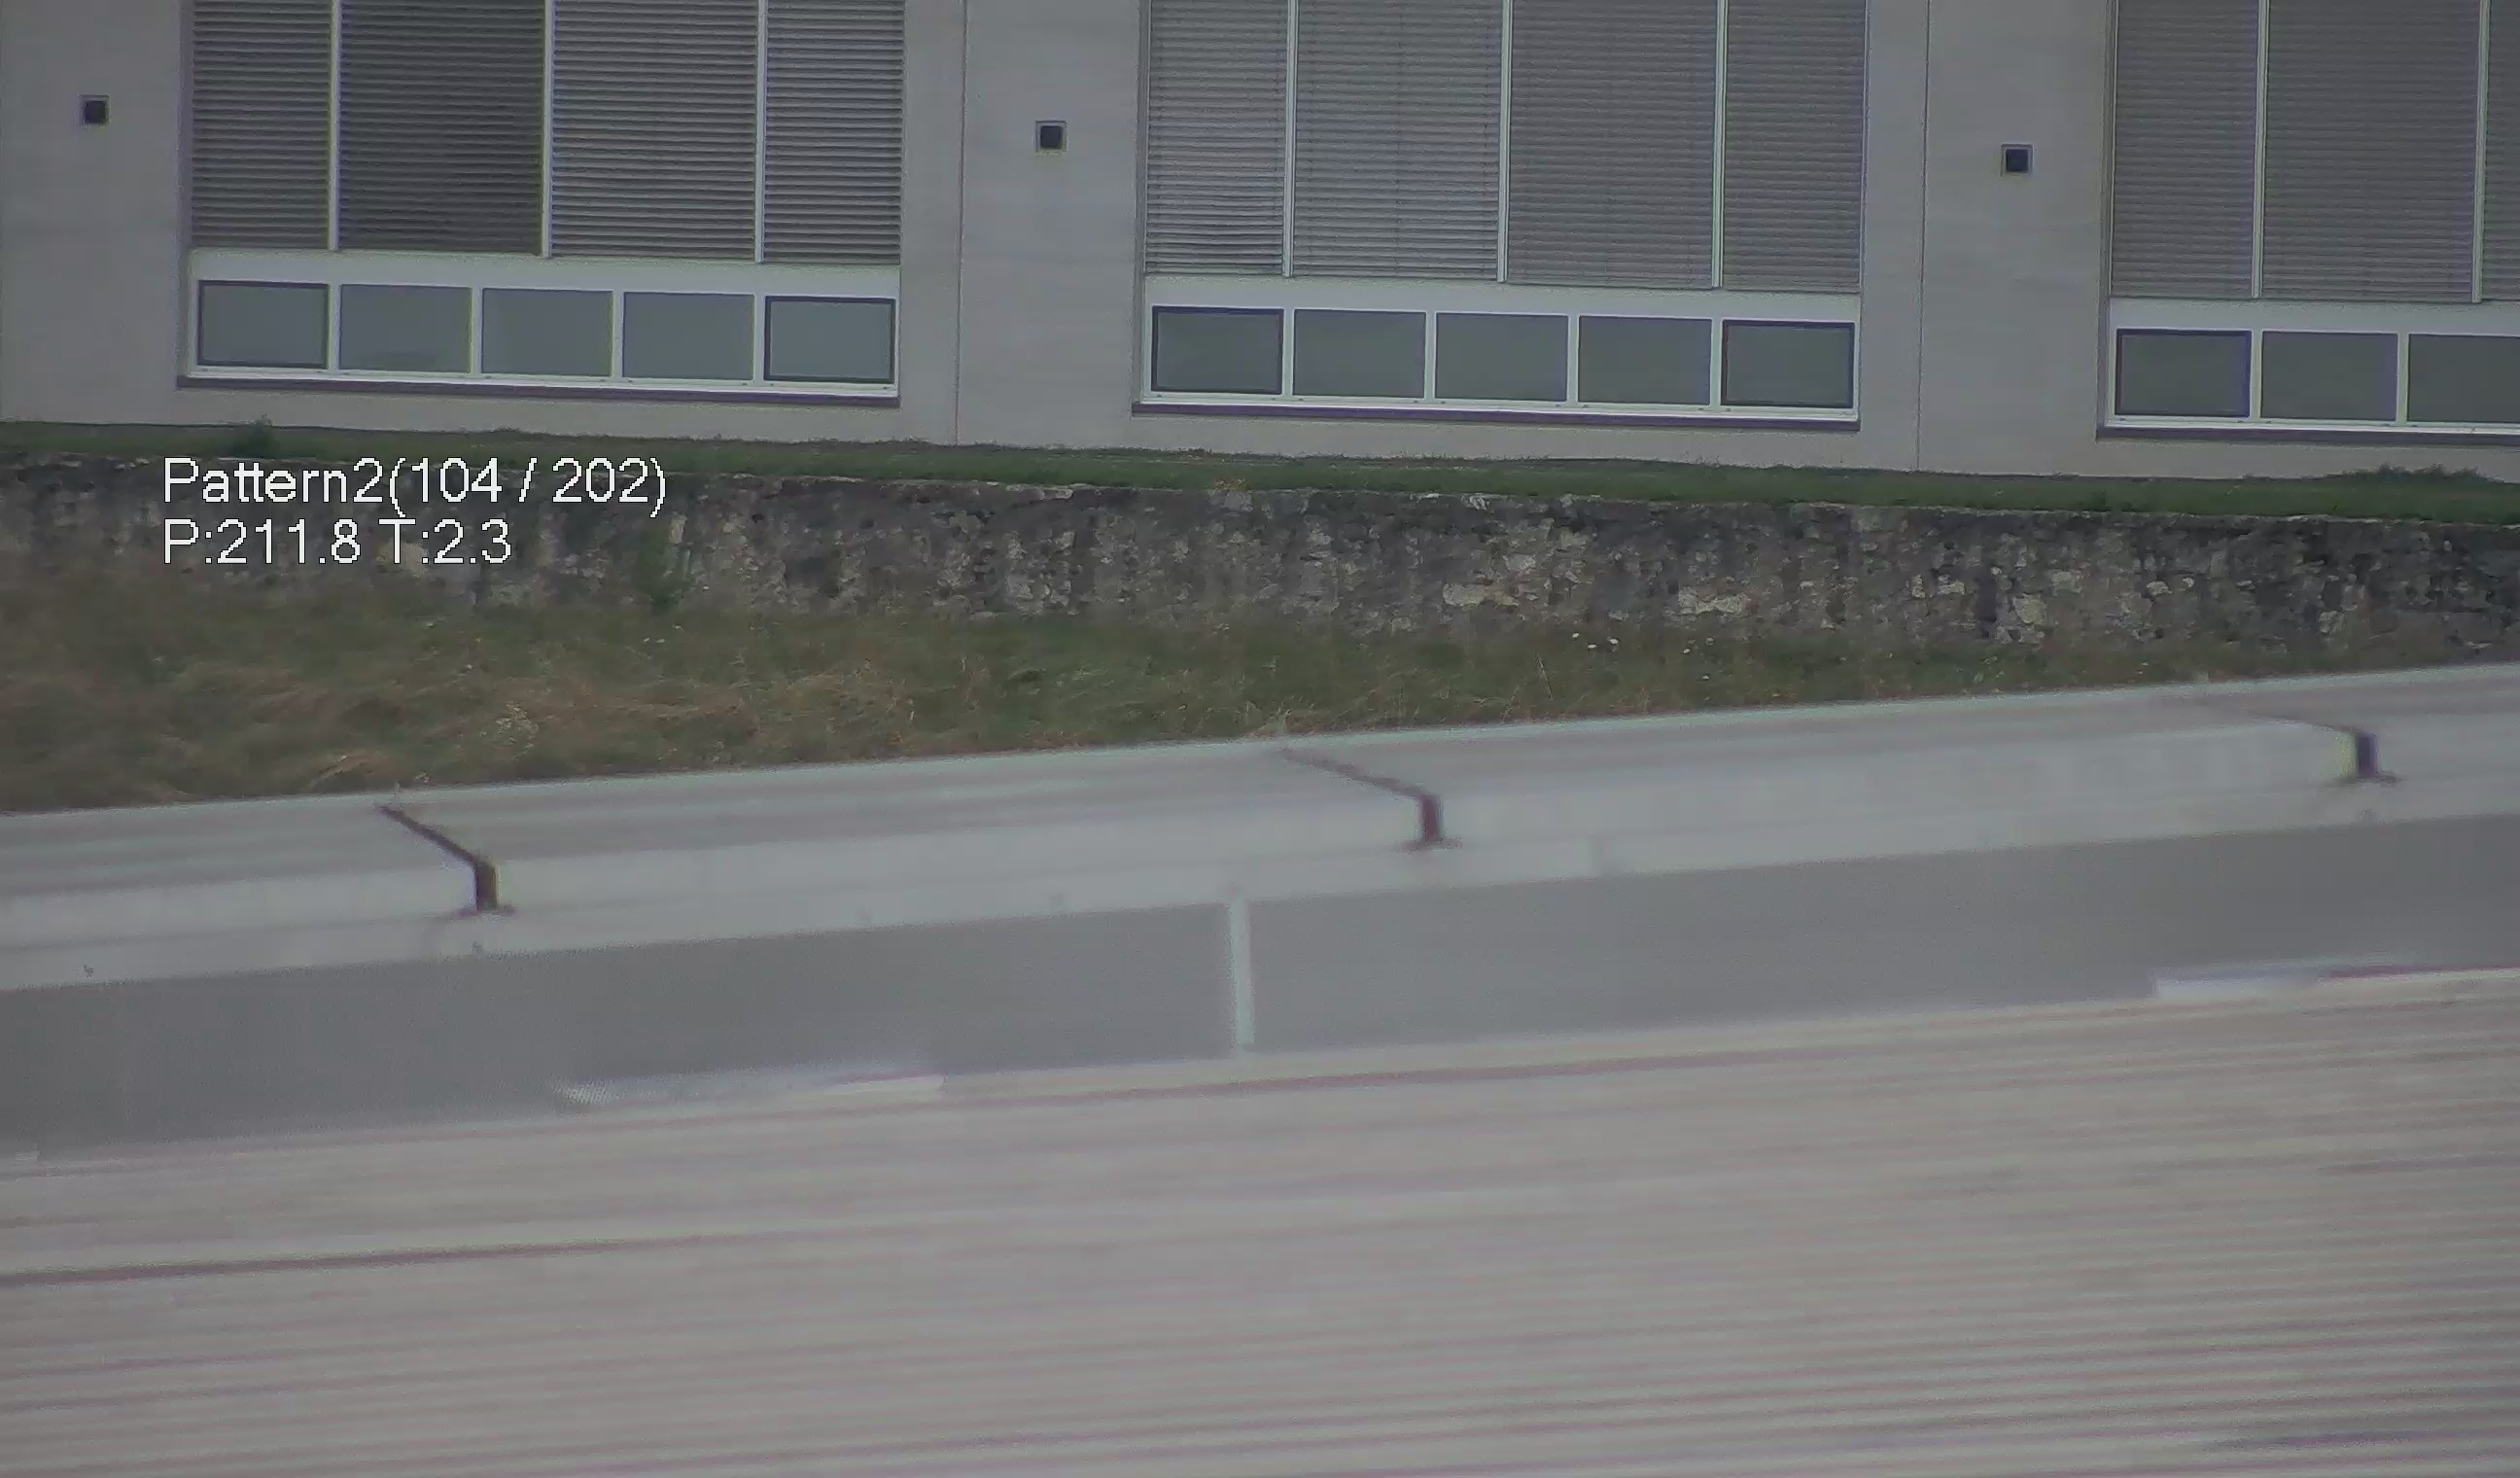Other: (359, 788, 505, 934)
